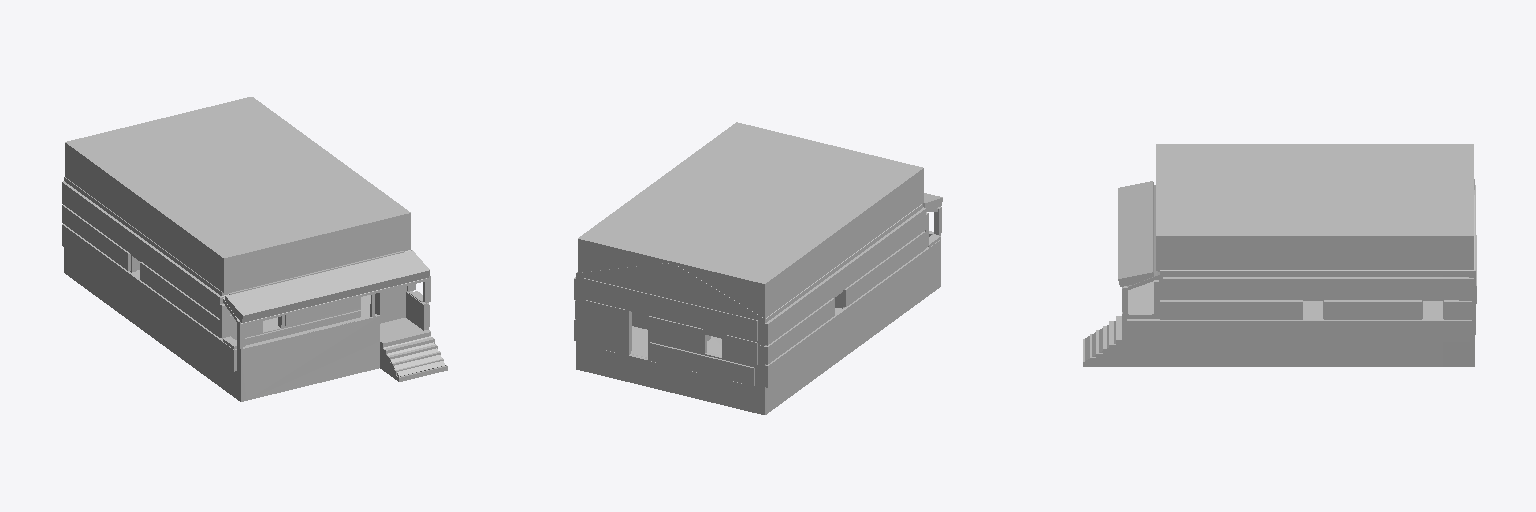
Rendered from house.obj.
The picture shows the model from 3 angles: view 1: azimuth 30°, elevation 25°; view 2: azimuth 150°, elevation 25°; view 3: azimuth 270°, elevation 25°; orthographic projection.
Parts seen in each view (by area): view 1: Rancho メッシュ; view 2: Rancho メッシュ; view 3: Rancho メッシュ.
Part boxes in pixels (x1,y1,x2,y2): Rancho メッシュ: (62, 97, 447, 401); Rancho メッシュ: (574, 122, 942, 414); Rancho メッシュ: (1083, 144, 1476, 366).
Size of the model in its own units: 412 by 266 by 721.